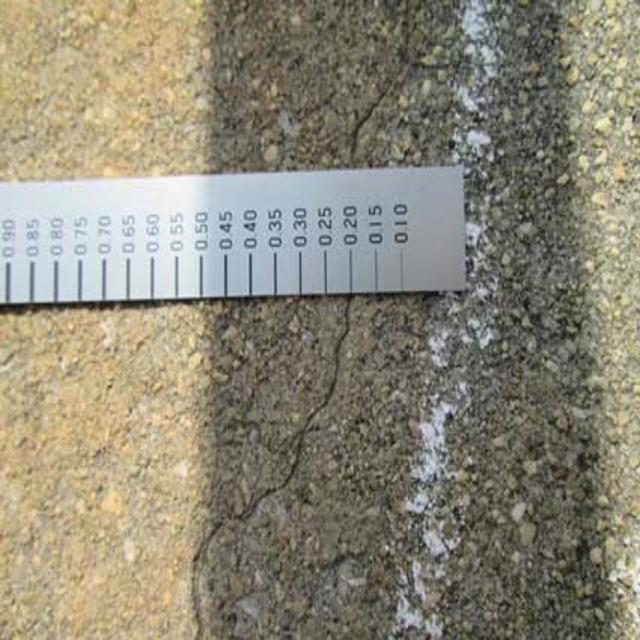crack: (160, 314, 373, 634), (339, 13, 430, 153)
